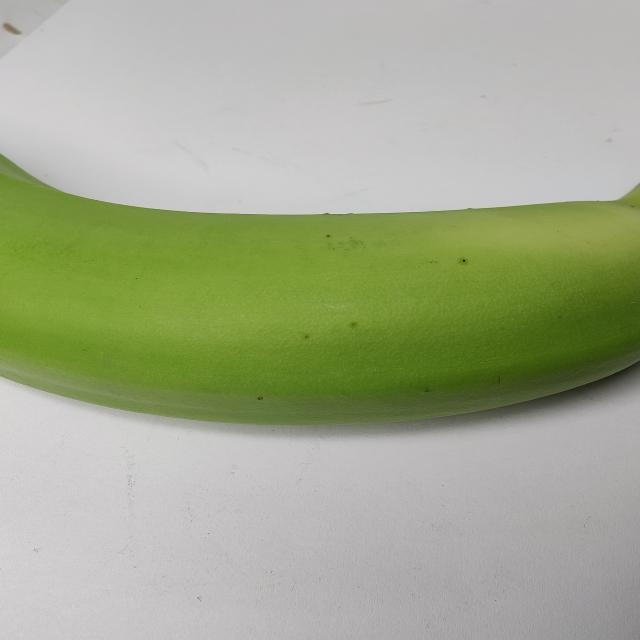raw: (0, 134, 640, 452)
